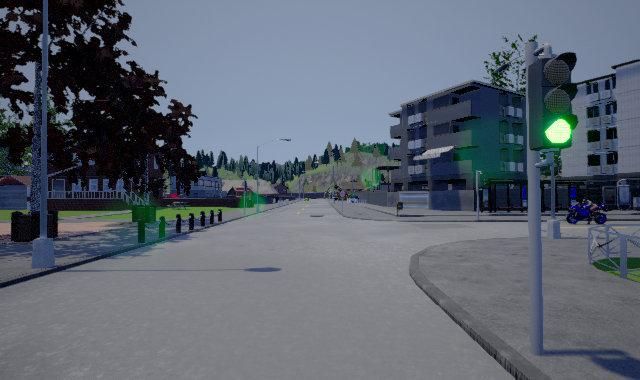motobike: (566, 202, 608, 224)
traffic_light: (528, 51, 578, 152)
traffic_sign: (339, 189, 346, 199)
